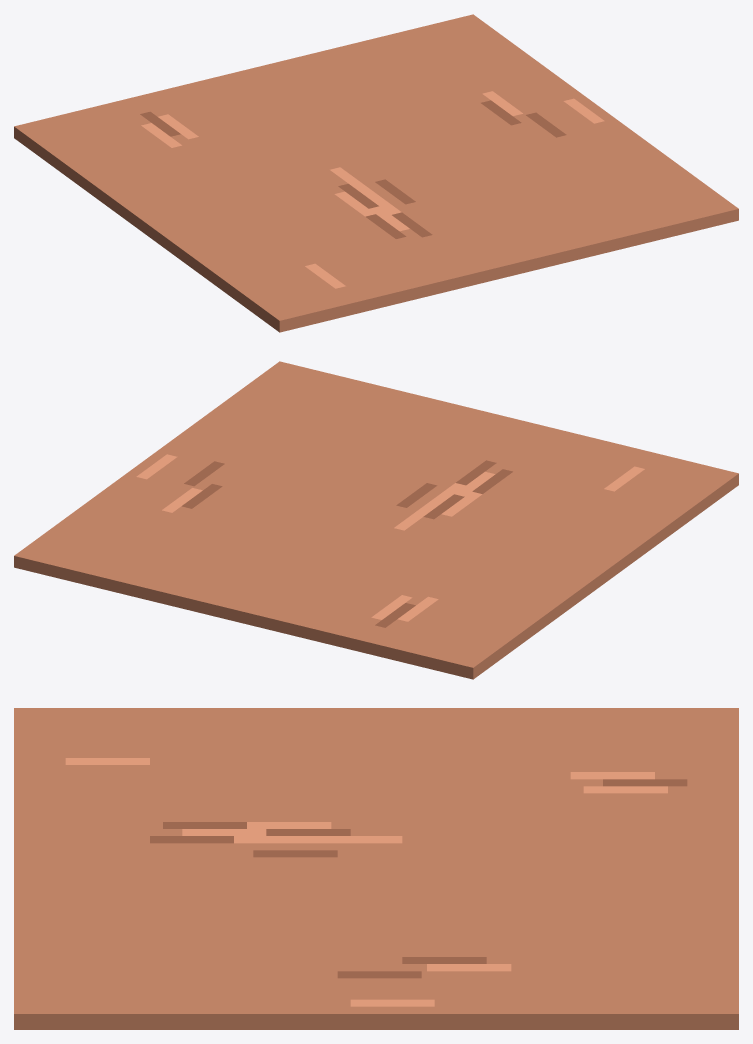
Rendered from Floor.fbx.
The picture shows the model from 3 angles, top to bottom: view 1: azimuth 30°, elevation 25°; view 2: azimuth 150°, elevation 25°; view 3: azimuth 270°, elevation 25°; orthographic projection. The views are drawn at different scales.
Visible parts, largest first — view 1: Floor; view 2: Floor; view 3: Floor.
Part boxes in pixels (x1,y1,x2,y2): Floor: (14, 14, 738, 332); Floor: (14, 361, 738, 679); Floor: (14, 708, 738, 1029).
Bounding box in the file's own units: 10.23 × 10.25 × 0.25.
